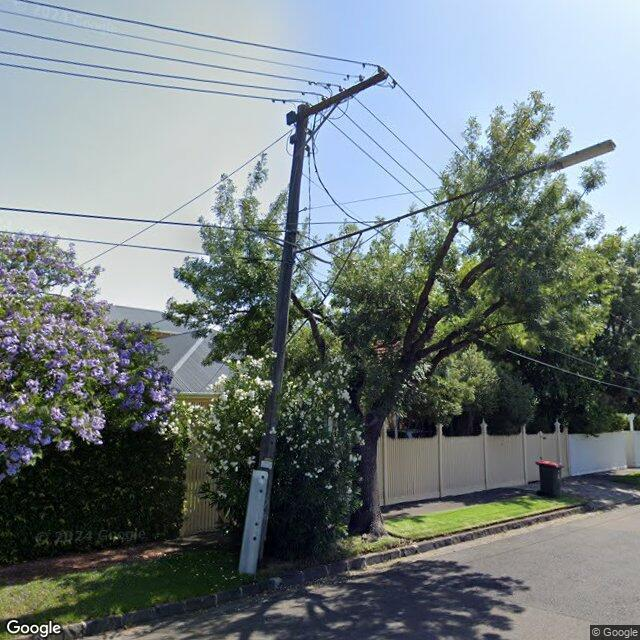crossarm: (270, 62, 398, 125)
streetlight: (292, 138, 616, 257)
timber-pole: (238, 102, 312, 574)
